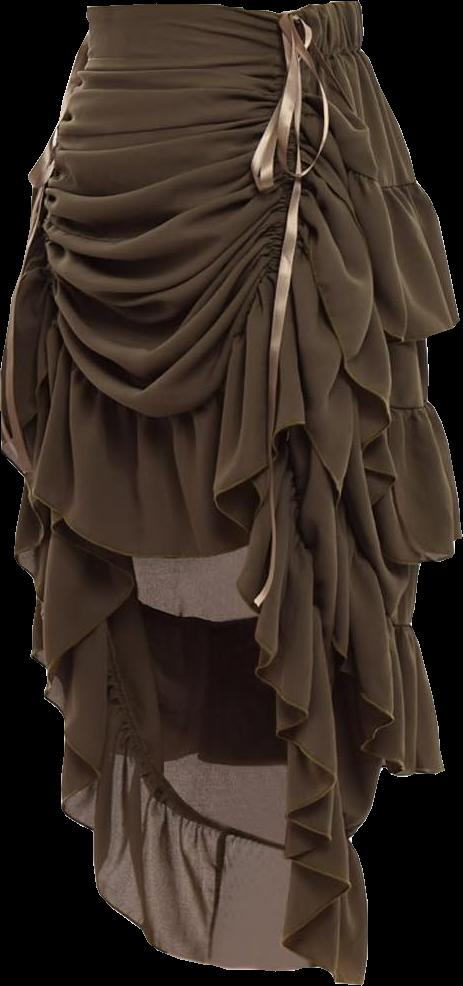Hemline: (0, 355, 447, 562), (235, 489, 358, 981)
Waistline: (36, 78, 317, 422), (79, 43, 371, 77), (87, 0, 363, 21)
